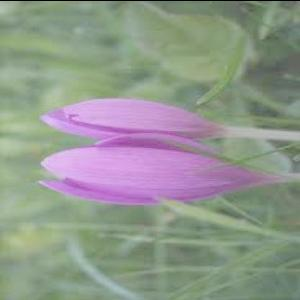Saffron: (36, 136, 300, 205), (38, 99, 286, 145)
